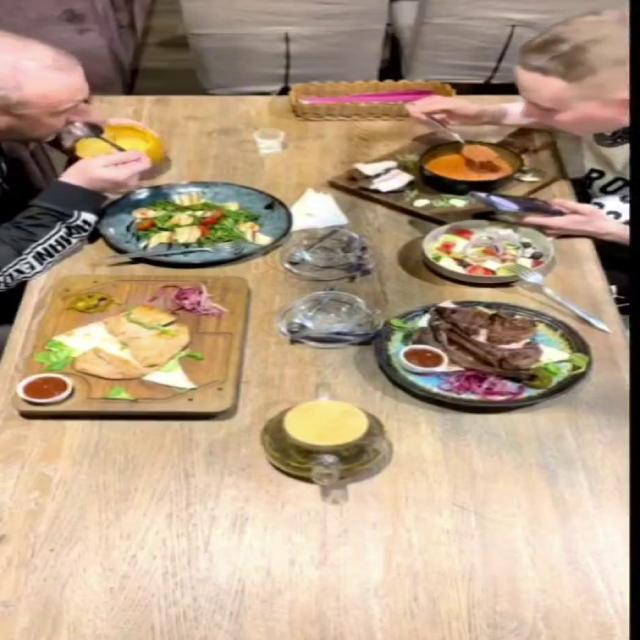meat: (11, 275, 256, 418), (371, 301, 594, 408)
salad: (92, 181, 288, 265), (420, 219, 556, 284)
soup: (324, 129, 570, 225), (73, 121, 166, 166)
tea: (240, 372, 412, 508)
